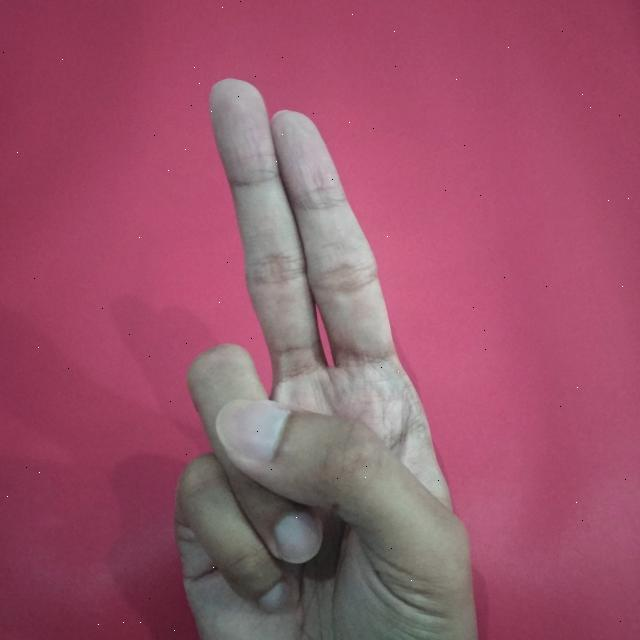U: (165, 68, 480, 640)
